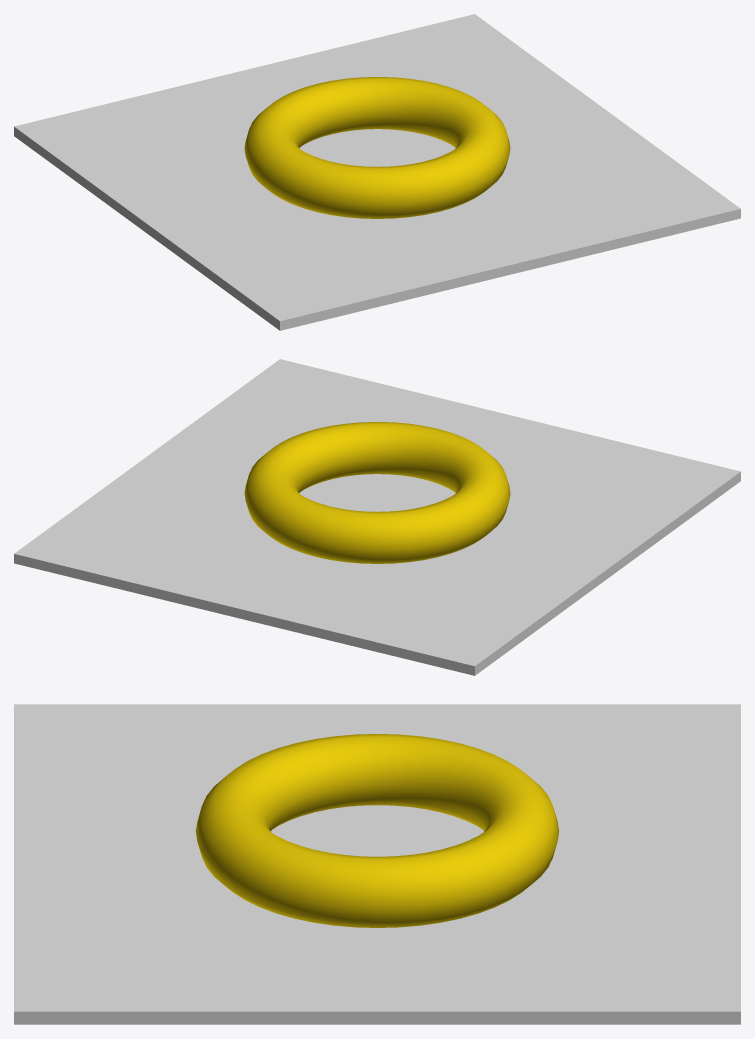
The model's file is caustics.gltf.
3 views of the same model, one above another, from view 1: azimuth 30°, elevation 25°; view 2: azimuth 150°, elevation 25°; view 3: azimuth 270°, elevation 25° (orthographic). The views are drawn at different scales.
Visible parts, largest first — view 1: Cube, Torus; view 2: Cube, Torus; view 3: Cube, Torus.
Part boxes in pixels (x1=…): Cube: x1=14, y1=14, x2=740, y2=330; Torus: x1=244, y1=77, x2=510, y2=218; Cube: x1=14, y1=359, x2=740, y2=675; Torus: x1=244, y1=422, x2=510, y2=563; Cube: x1=14, y1=704, x2=740, y2=1024; Torus: x1=195, y1=734, x2=559, y2=927.
Size of the model in its own units: 10 by 1.1 by 10.
